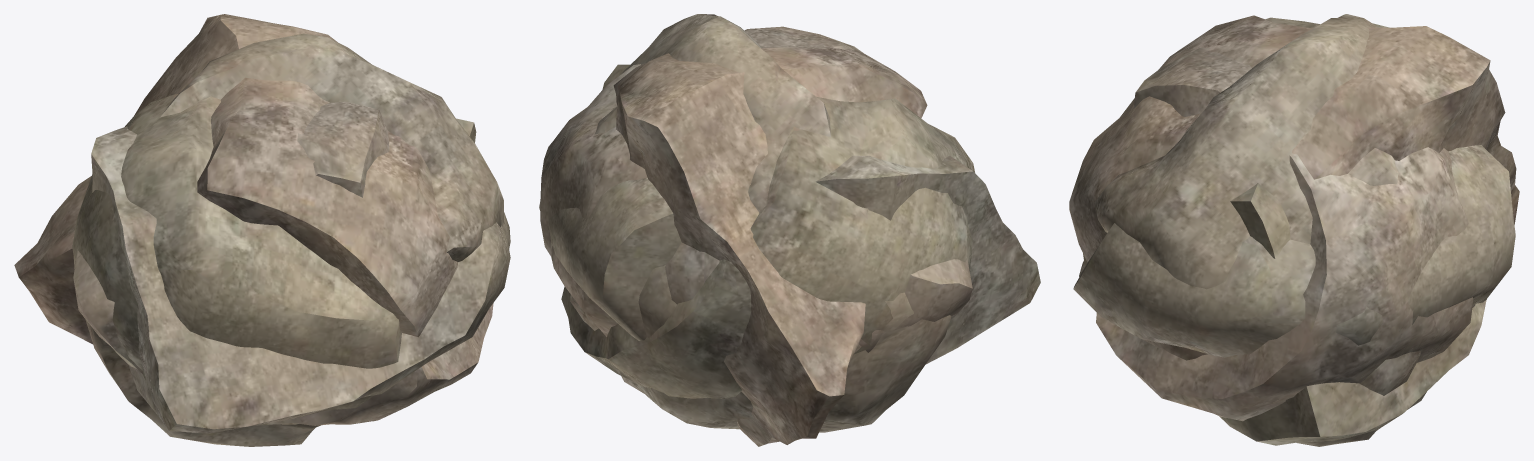
File: rocks.glb
3 views of the same model, side by side, from view 1: azimuth 30°, elevation 25°; view 2: azimuth 150°, elevation 25°; view 3: azimuth 270°, elevation 25° (orthographic). The views are drawn at different scales.
Parts seen in each view (by area): view 1: rock_wedge, rock_block, rock_slab, rock_lump, rock_round; view 2: rock_wedge, rock_block, rock_slab, rock_lump, rock_round; view 3: rock_round, rock_lump, rock_wedge, rock_slab, rock_block.
Boxes of the visible parts, x1,y1,x2,y2 form: rock_wedge: [14, 14, 457, 344]; rock_block: [72, 94, 476, 424]; rock_slab: [91, 126, 510, 433]; rock_lump: [73, 33, 503, 446]; rock_round: [73, 101, 493, 425]; rock_wedge: [613, 46, 927, 446]; rock_block: [561, 64, 974, 399]; rock_slab: [539, 155, 1040, 364]; rock_lump: [570, 14, 951, 432]; rock_round: [540, 26, 972, 352]; rock_round: [1096, 48, 1473, 421]; rock_lump: [1094, 14, 1475, 446]; rock_wedge: [1069, 15, 1519, 360]; rock_slab: [1073, 23, 1515, 357]; rock_block: [1083, 17, 1486, 445].
Bounding box in the file's own units: 2.53 × 2.29 × 2.3.
1 material, 1 textured.
